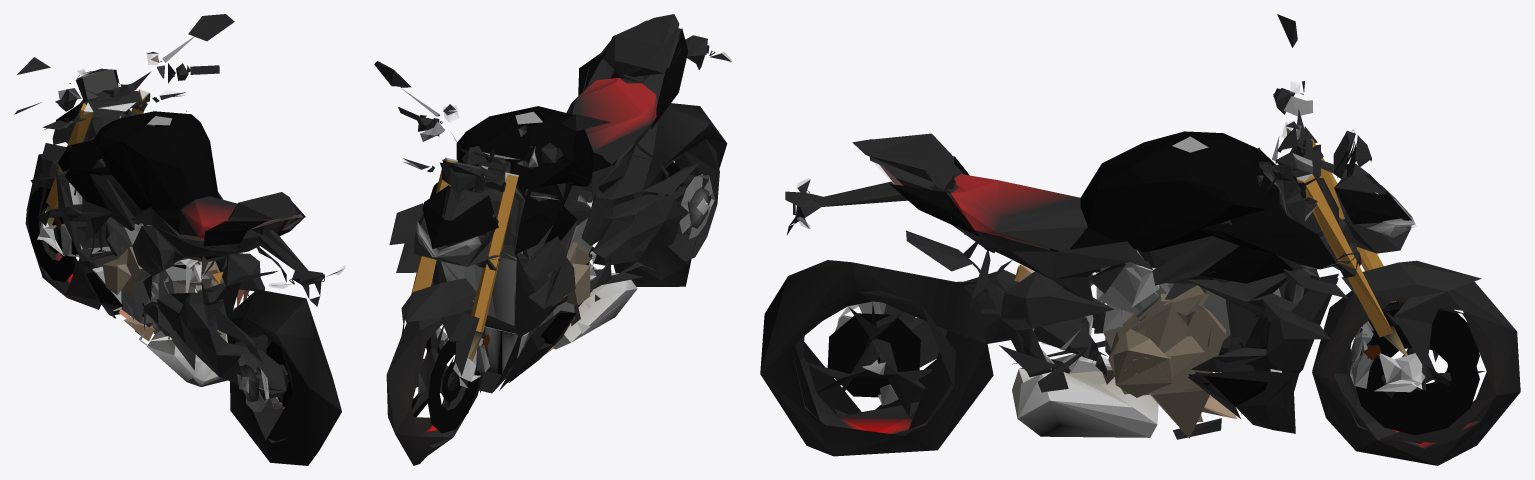
File: moto.glb
3 views of the same model, side by side, from view 1: azimuth 30°, elevation 25°; view 2: azimuth 150°, elevation 25°; view 3: azimuth 270°, elevation 25° (orthographic). The views are drawn at different scales.
Visible parts, largest first — view 1: SM_Swingarm_0000001_4, SM_Base_0000017_3, SM_Tire_R_0000001_1, SM_Engine_0000006, SM_Exhaust_0000001_2, SM_Tire_F_0000001_2, SM_RearKit_0000016_2, SM_Disk_F_0000001, SM_FrontKit_0000017_1, SM_Swingarm_0000001_2, SM_Tire_F_0000001_1, SM_FrontKit_0000017_5 (+1 smaller); view 2: SM_Swingarm_0000001_4, SM_Base_0000017_3, SM_RearKit_0000016_2, SM_Tire_R_0000001_1, SM_Tire_F_0000001_2, SM_FrontKit_0000017_1, SM_Tire_F_0000001_1, SM_Engine_0000006, SM_Disk_F_0000001, SM_Exhaust_0000001_2, SM_Frame_0000001_2, SM_RearKit_0000016_3 (+3 smaller); view 3: SM_Swingarm_0000001_4, SM_Base_0000017_3, SM_Tire_R_0000001_1, SM_Engine_0000006, SM_Exhaust_0000001_2, SM_Tire_F_0000001_1, SM_Disk_F_0000001, SM_Tire_F_0000001_2, SM_RearKit_0000016_2, SM_FrontKit_0000017_1, SM_Swingarm_0000001_1, SM_RearKit_0000016_3 (+2 smaller).
Part boxes in pixels (box(x1,y1,x2,y2)): SM_Swingarm_0000001_4: box(14, 14, 342, 401); SM_Base_0000017_3: box(58, 111, 220, 234); SM_Tire_R_0000001_1: box(226, 289, 341, 465); SM_Engine_0000006: box(69, 182, 223, 333); SM_Exhaust_0000001_2: box(105, 224, 264, 386); SM_Tire_F_0000001_2: box(27, 172, 294, 442); SM_RearKit_0000016_2: box(179, 192, 297, 239); SM_Disk_F_0000001: box(27, 187, 293, 406); SM_FrontKit_0000017_1: box(56, 104, 303, 318); SM_Swingarm_0000001_2: box(80, 65, 269, 404); SM_Tire_F_0000001_1: box(25, 154, 101, 309); SM_FrontKit_0000017_5: box(83, 68, 117, 99); SM_Swingarm_0000001_4: box(374, 20, 731, 393); SM_Base_0000017_3: box(419, 106, 611, 254); SM_RearKit_0000016_2: box(566, 14, 679, 164); SM_Tire_R_0000001_1: box(613, 103, 727, 286); SM_Tire_F_0000001_2: box(412, 139, 719, 448); SM_FrontKit_0000017_1: box(422, 28, 688, 381); SM_Tire_F_0000001_1: box(386, 301, 488, 465); SM_Engine_0000006: box(443, 162, 596, 371); SM_Disk_F_0000001: box(411, 162, 680, 433); SM_Exhaust_0000001_2: box(543, 250, 644, 355); SM_Frame_0000001_2: box(441, 160, 532, 374); SM_RearKit_0000016_3: box(403, 70, 615, 349); SM_Swingarm_0000001_4: box(785, 14, 1481, 433); SM_Base_0000017_3: box(1069, 131, 1337, 283); SM_Tire_R_0000001_1: box(760, 260, 993, 456); SM_Engine_0000006: box(1096, 236, 1316, 439); SM_Exhaust_0000001_2: box(1000, 271, 1270, 437); SM_Tire_F_0000001_1: box(1312, 281, 1520, 465); SM_Disk_F_0000001: box(827, 302, 1479, 435); SM_Tire_F_0000001_2: box(792, 291, 1496, 448); SM_RearKit_0000016_2: box(852, 133, 1087, 251); SM_FrontKit_0000017_1: box(889, 156, 1411, 419); SM_Swingarm_0000001_1: box(878, 321, 1373, 405); SM_RearKit_0000016_3: box(879, 164, 1414, 360).
Bounding box in the file's own units: 0.8955 × 1.19 × 2.1.
